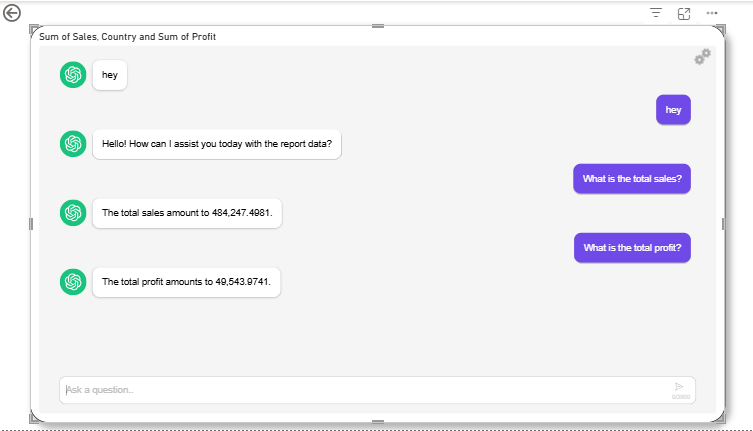

The dashboard page shown, as its layout file describes it:
{"tool":"powerbi","page":{"name":"Messages","canvas":[1280,720],"ordinal":4},"visuals":[{"type":"chatpowerbi_ai","fields":{"values":["Sum(Sheet1.Sales)","Sheet1.Country","Sum(Sheet1.Profit)"]},"box":[50,40,1168.3,668.3],"z":0},{"type":"actionButton","box":[0,0,100,40],"z":1000}]}

Visuals, with their boxes on the page's 1280x720 design canvas (x1, y1, x2, y2). These are canvas units, not pixel positions in the 753x431 screenshot, which may show the page scaled, cropped or inside an application window:
chatpowerbi_ai - Sum(Sheet1.Sales) x Sheet1.Country: [left=50, top=40, right=1218, bottom=708]
actionButton: [left=0, top=0, right=100, bottom=40]
